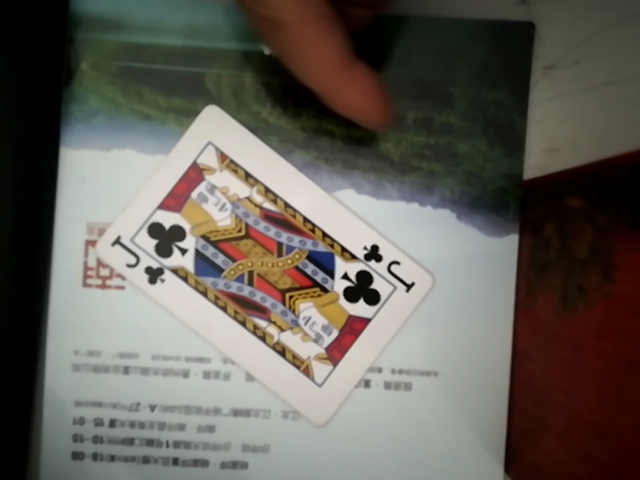mh j: (63, 106, 446, 414)
